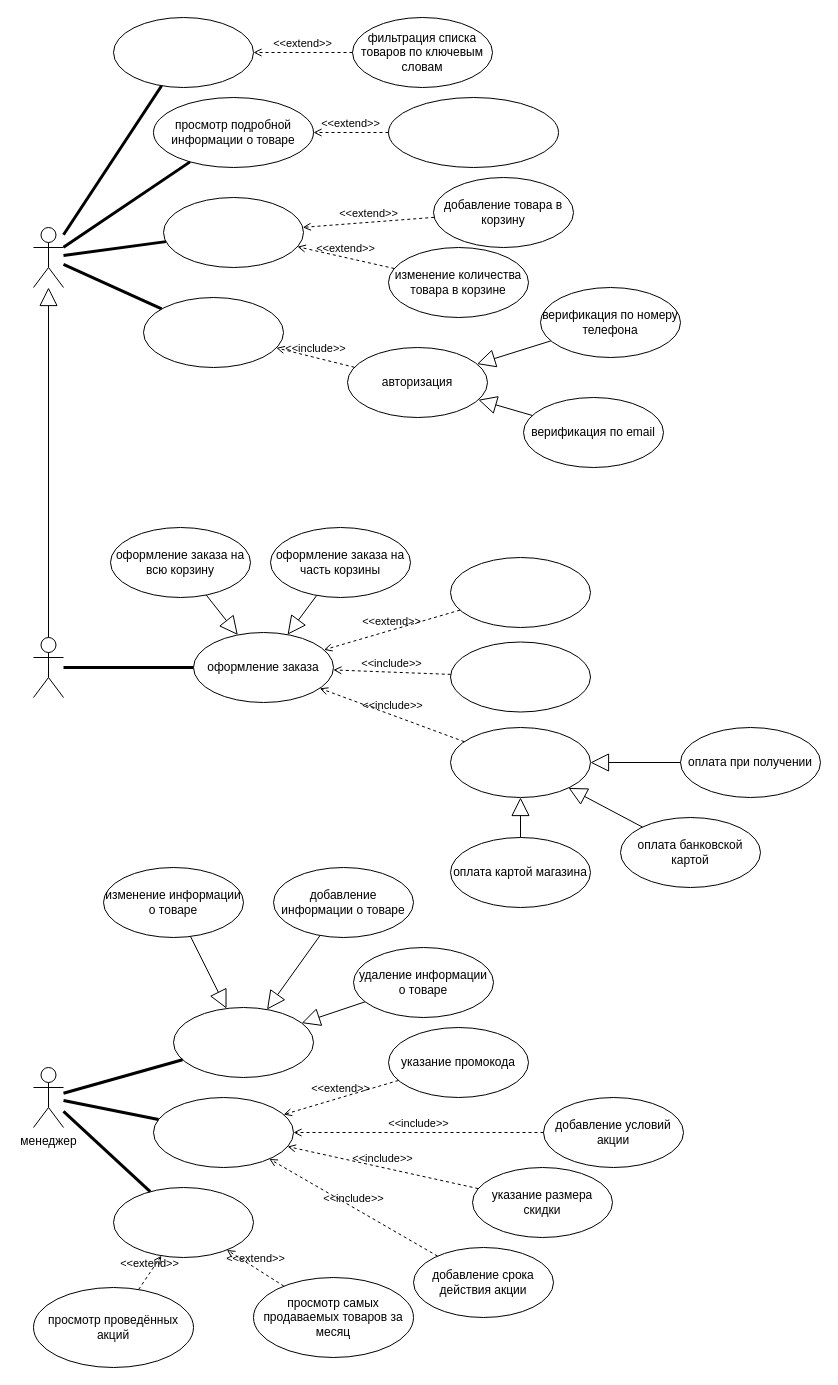
The diagram is 838 pixels wide and 1385 high, and some of its shapes have lost their labels. Here are the shapes that lost their labels. From the top down, the centre of each, then its label:
At [183,52]: "просмотр каталога товаров".
At [473,132]: "просмотр списка отзывов".
At [233,232]: "просмотр корзины".
At [48,257]: "посетитель".
At [213,332]: "регистрация".
At [520,592]: "применение промокода".
At [48,667]: "покупатель".
At [520,676]: "указание адреса доставки".
At [520,762]: "оплата заказа".
At [243,1042]: "редактирование информации о товаре".
At [223,1132]: "создание новой акции".
At [183,1222]: "просмотр отчётов".
